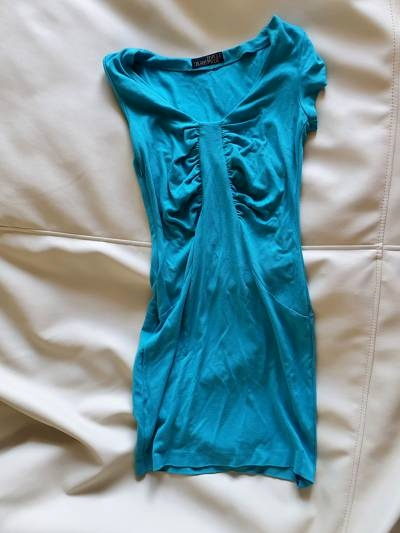Dress: (75, 14, 376, 500)
